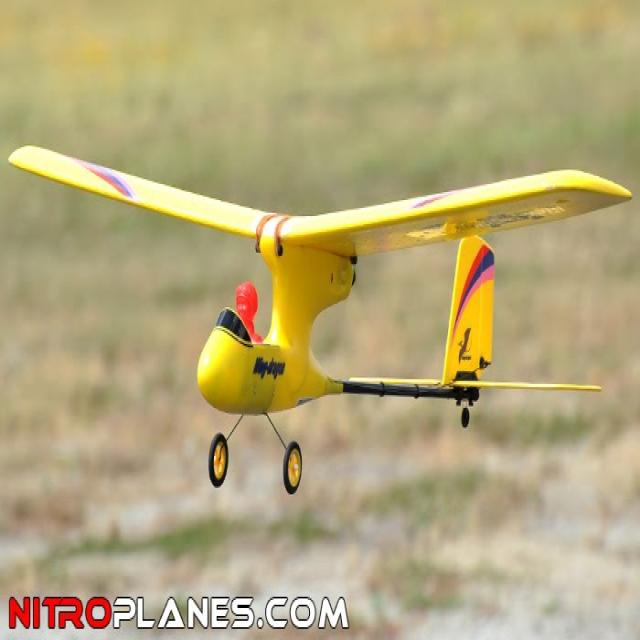iha: (7, 144, 634, 497)
